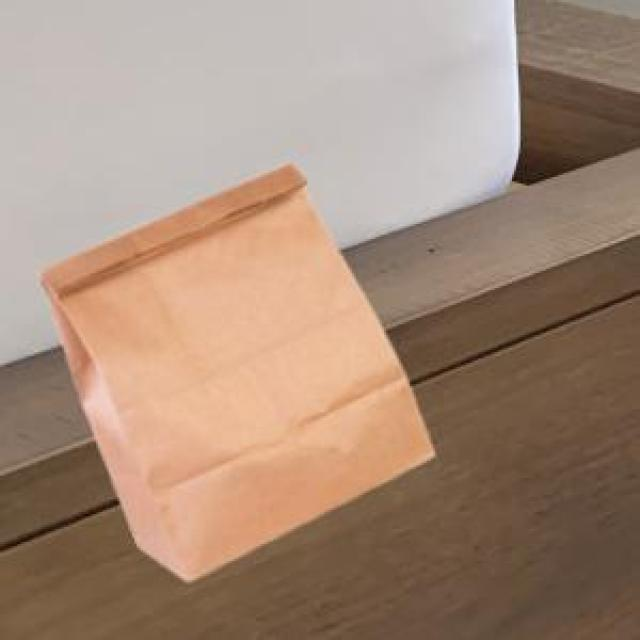paper: (36, 160, 429, 576)
